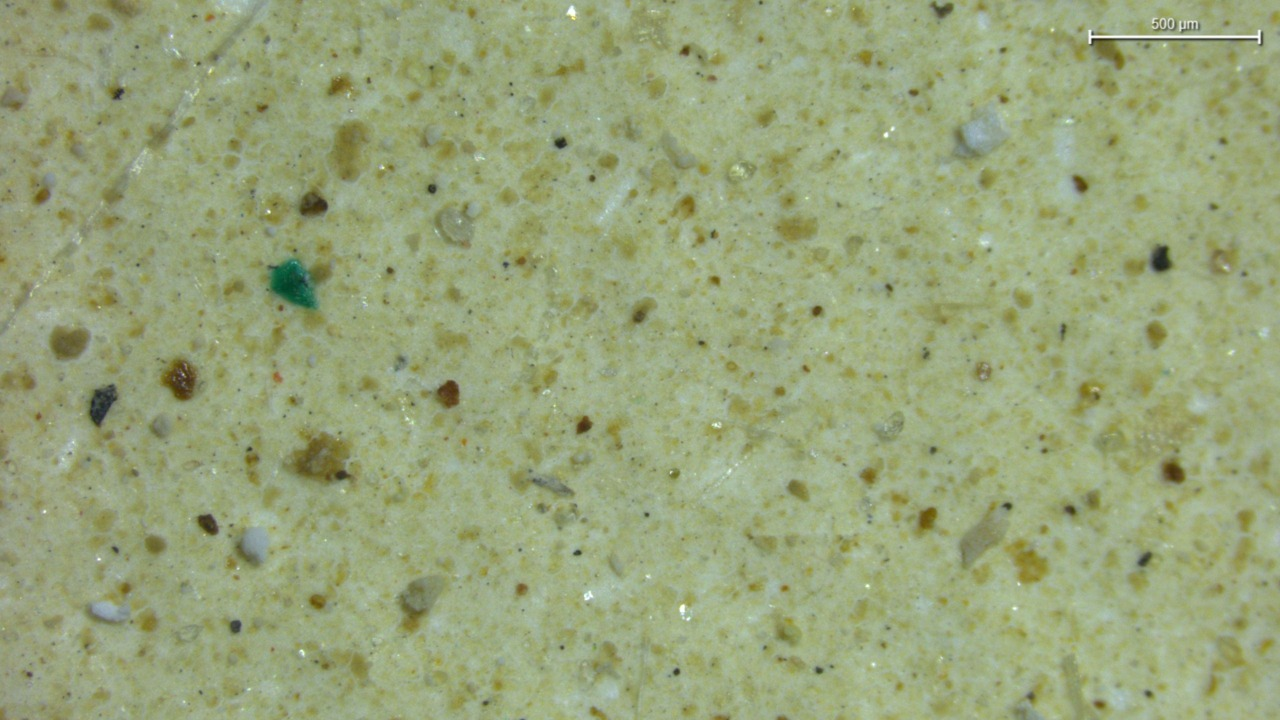microplastic_fragment: (959, 502, 1012, 567), (954, 105, 1009, 157), (401, 575, 446, 613), (436, 207, 473, 246), (240, 526, 269, 563), (89, 601, 130, 622), (425, 124, 443, 145)
